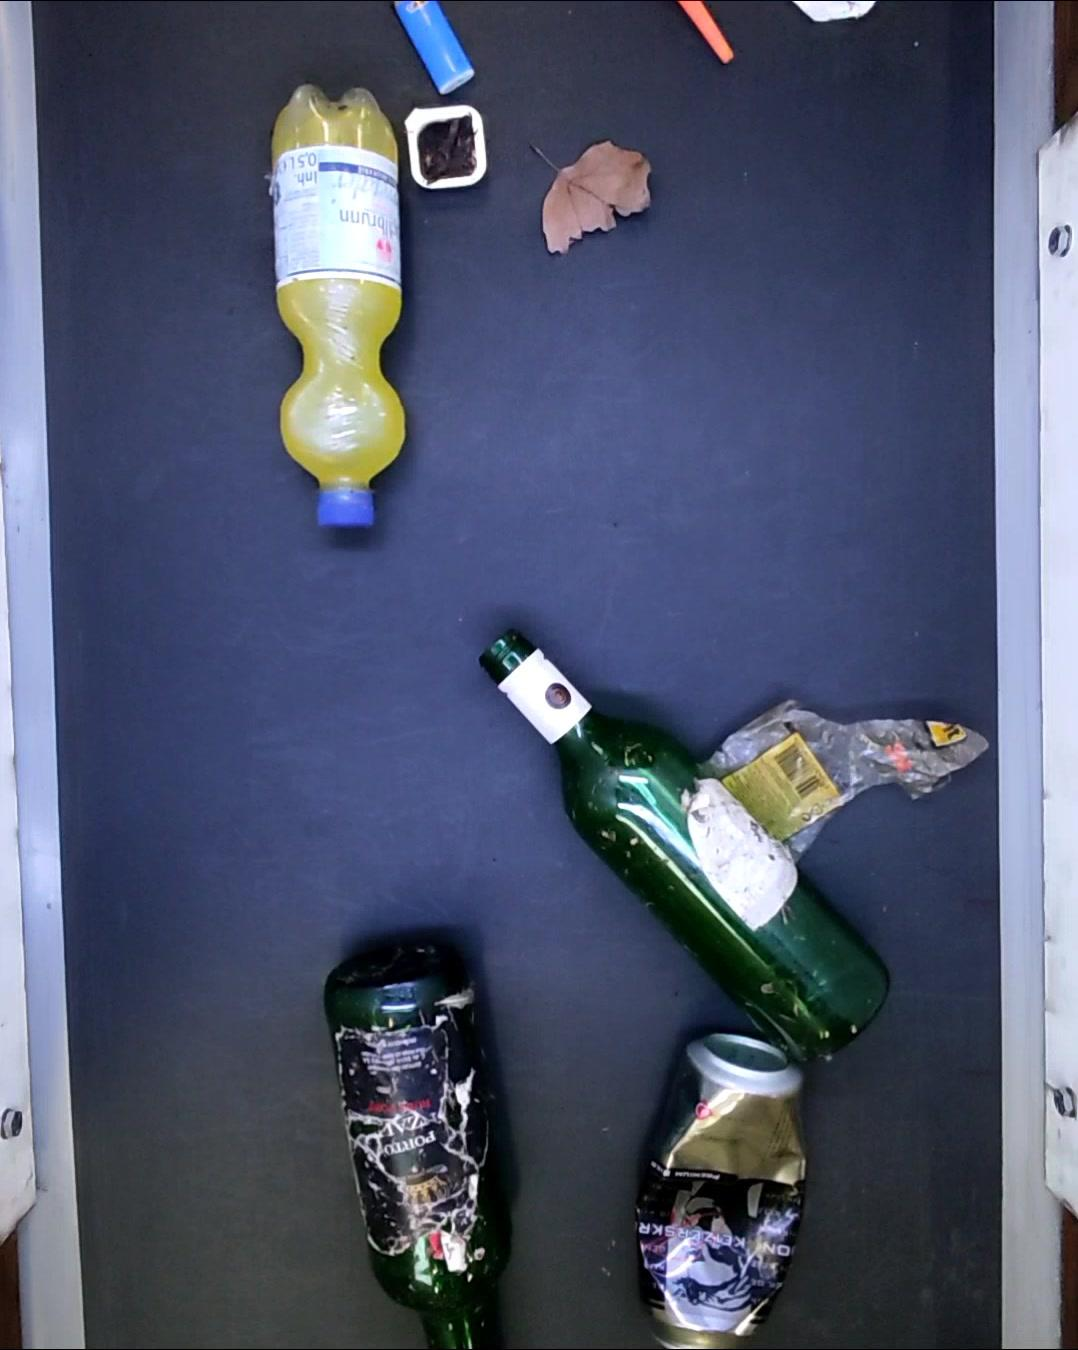Drankblikjes: (631, 1030, 807, 1350)
Drankflessen - 1-2 liter: (271, 84, 413, 533)
Plastic folies of stukken daarvan 2.5- 50 cm: (710, 698, 991, 864)
Voedselverpakkingen: (398, 102, 486, 191)
